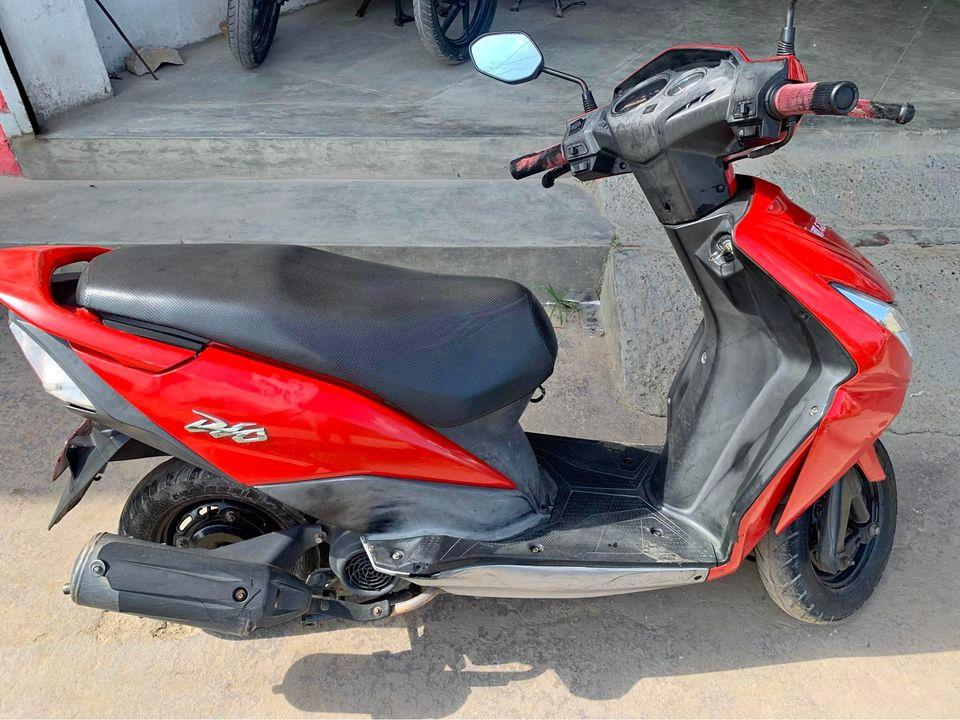scooter: (0, 22, 924, 654)
